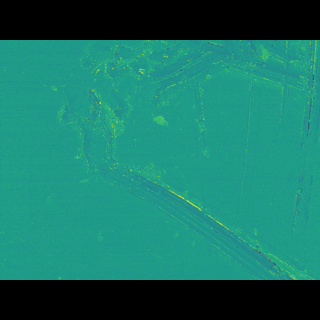Loch: (45, 102, 319, 249), (57, 68, 320, 125), (285, 70, 320, 218)
